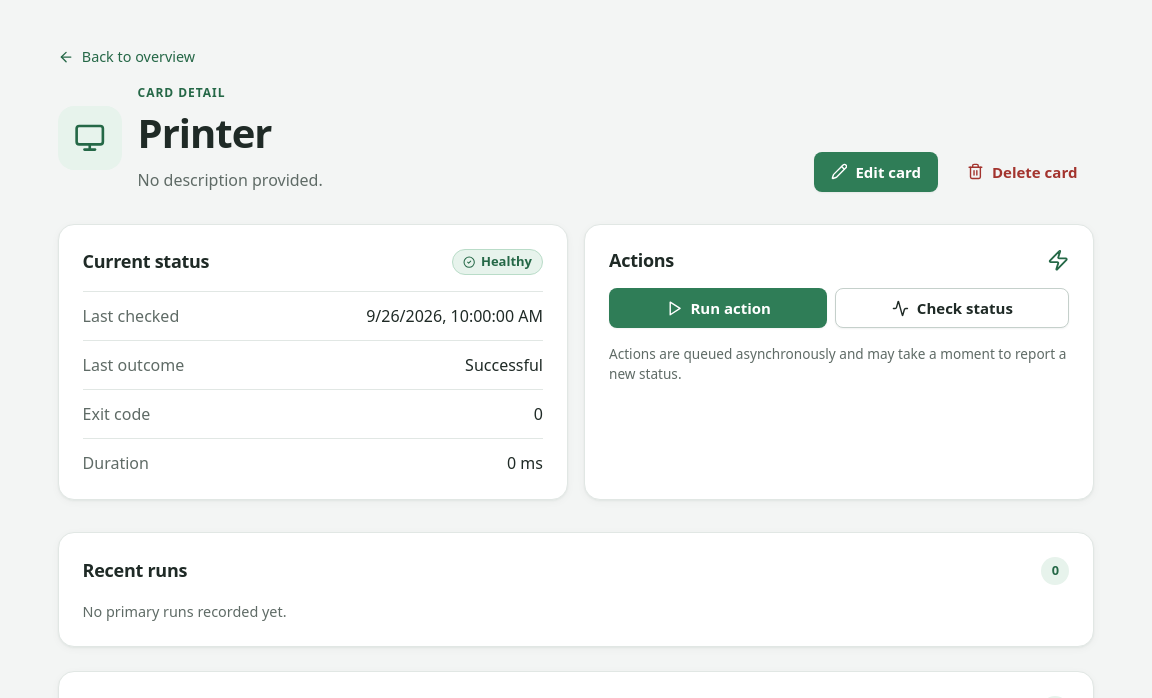
CardDetailView › shows the enqueue error and re-enables the buttons
Click the button "Run action": (718, 308) [609, 288, 828, 328]
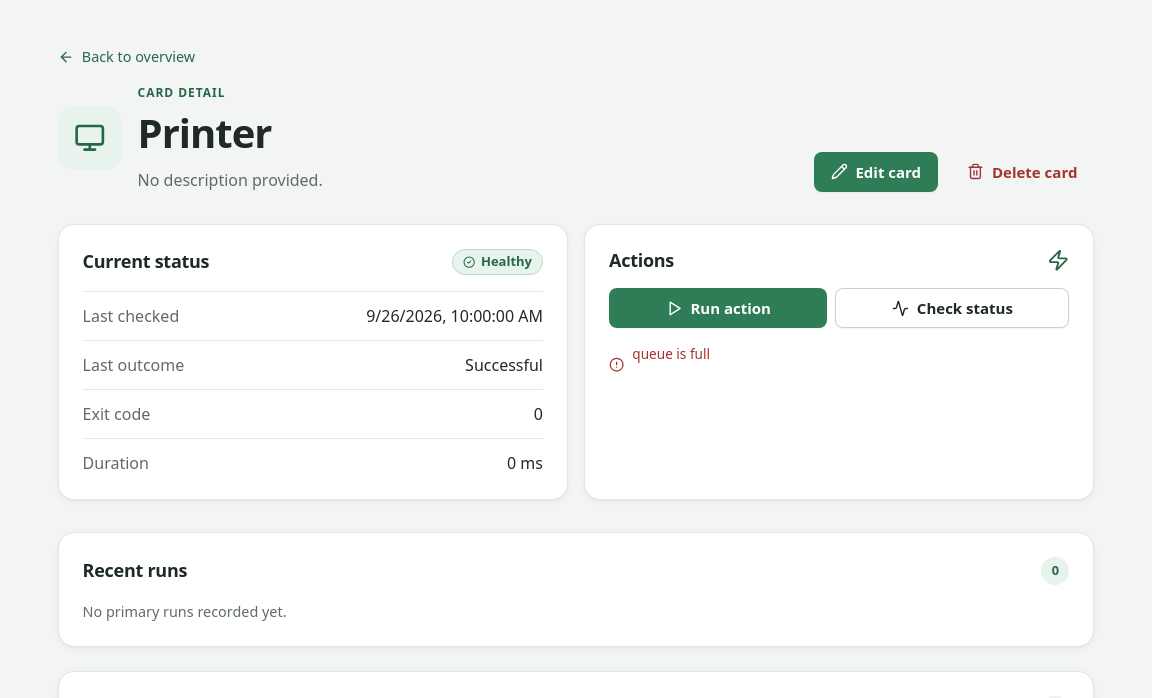
Result: the text with class "action-note-text" reads "queue is full" at [632, 344, 710, 363]
